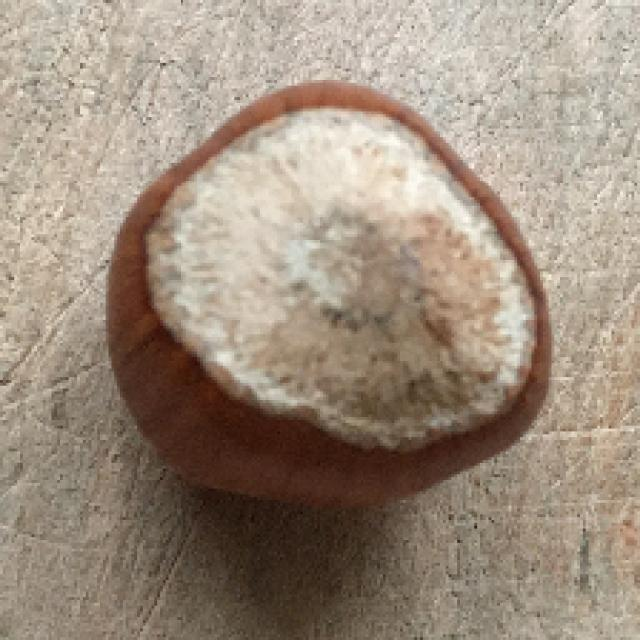qualityHazelnut: (105, 71, 558, 527)
